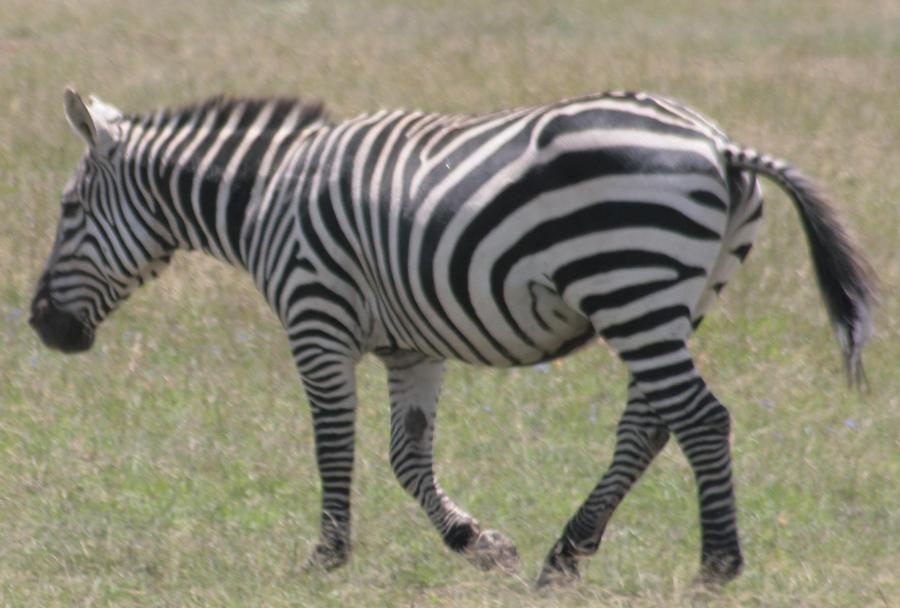zebra_plains: (228, 92, 731, 369)
